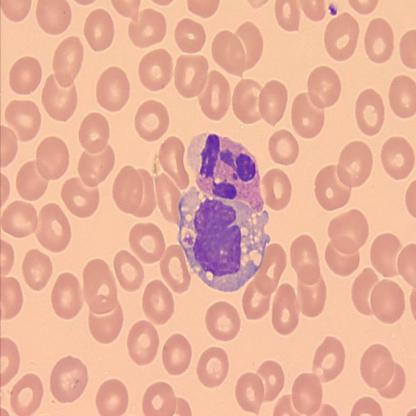Monocyte: (176, 182, 272, 294)
